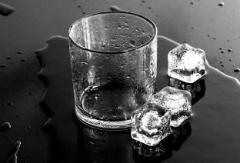glass: (67, 10, 159, 132)
